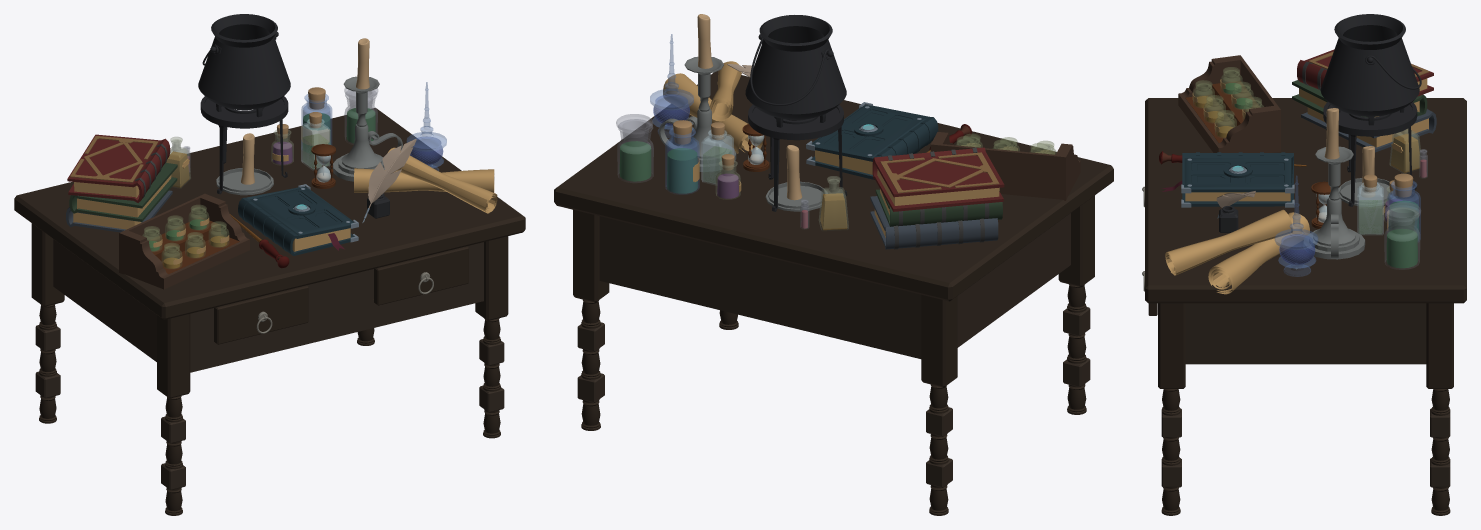
Rendered from Alchemy_table.glb.
3 renders of one model, left to right at view 1: azimuth 30°, elevation 25°; view 2: azimuth 150°, elevation 25°; view 3: azimuth 270°, elevation 25°, orthographic. The views are drawn at different scales.
Parts seen in each view (by area): view 1: Object_79, Object_82, Object_52, Object_69, Object_13, Object_56, Object_47, Object_67, Object_77, Object_12, Object_70, Object_45 (+13 smaller); view 2: Object_79, Object_82, Object_52, Object_56, Object_47, Object_69, Object_67, Object_13, Object_27, Object_46, Object_18, Object_32 (+10 smaller); view 3: Object_79, Object_82, Object_52, Object_69, Object_56, Object_13, Object_67, Object_12, Object_18, Object_32, Object_77, Object_27 (+15 smaller).
Part boxes in pixels (x1=…): Object_79: x1=14, y1=108, x2=525, y2=515; Object_82: x1=35, y1=239, x2=504, y2=490; Object_52: x1=198, y1=14, x2=290, y2=194; Object_69: x1=119, y1=193, x2=249, y2=289; Object_13: x1=73, y1=126, x2=497, y2=251; Object_56: x1=238, y1=187, x2=354, y2=255; Object_47: x1=67, y1=134, x2=170, y2=202; Object_67: x1=216, y1=76, x2=384, y2=195; Object_77: x1=142, y1=205, x2=228, y2=268; Object_12: x1=153, y1=168, x2=494, y2=264; Object_70: x1=149, y1=217, x2=239, y2=274; Object_45: x1=69, y1=162, x2=177, y2=221; Object_79: x1=554, y1=71, x2=1113, y2=515; Object_82: x1=577, y1=213, x2=1090, y2=487; Object_52: x1=745, y1=15, x2=847, y2=211; Object_56: x1=811, y1=105, x2=938, y2=179; Object_47: x1=872, y1=147, x2=1004, y2=211; Object_69: x1=930, y1=132, x2=1080, y2=200; Object_67: x1=675, y1=56, x2=827, y2=211; Object_13: x1=693, y1=61, x2=999, y2=237; Object_27: x1=650, y1=34, x2=699, y2=194; Object_46: x1=870, y1=196, x2=998, y2=249; Object_18: x1=616, y1=114, x2=808, y2=229; Object_32: x1=619, y1=141, x2=697, y2=193; Object_79: x1=1145, y1=98, x2=1466, y2=515; Object_82: x1=1161, y1=303, x2=1450, y2=487; Object_52: x1=1320, y1=14, x2=1421, y2=206; Object_69: x1=1178, y1=55, x2=1280, y2=152; Object_56: x1=1182, y1=152, x2=1293, y2=206; Object_13: x1=1165, y1=78, x2=1428, y2=275; Object_67: x1=1303, y1=146, x2=1397, y2=259; Object_12: x1=1192, y1=79, x2=1309, y2=294; Object_18: x1=1384, y1=149, x2=1427, y2=269; Object_32: x1=1223, y1=83, x2=1419, y2=268; Object_77: x1=1193, y1=67, x2=1263, y2=137; Object_27: x1=1275, y1=176, x2=1420, y2=276.
Bounding box in the file's own units: 1.52 × 1.47 × 1.08.
